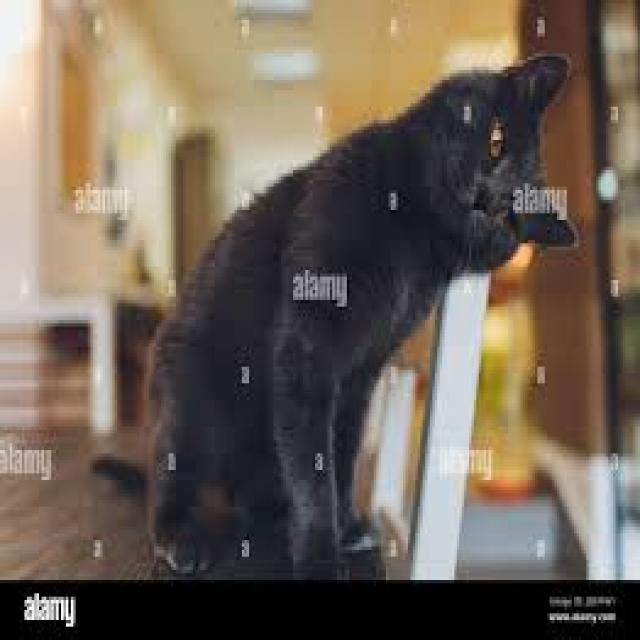Cat: (86, 46, 584, 574)
